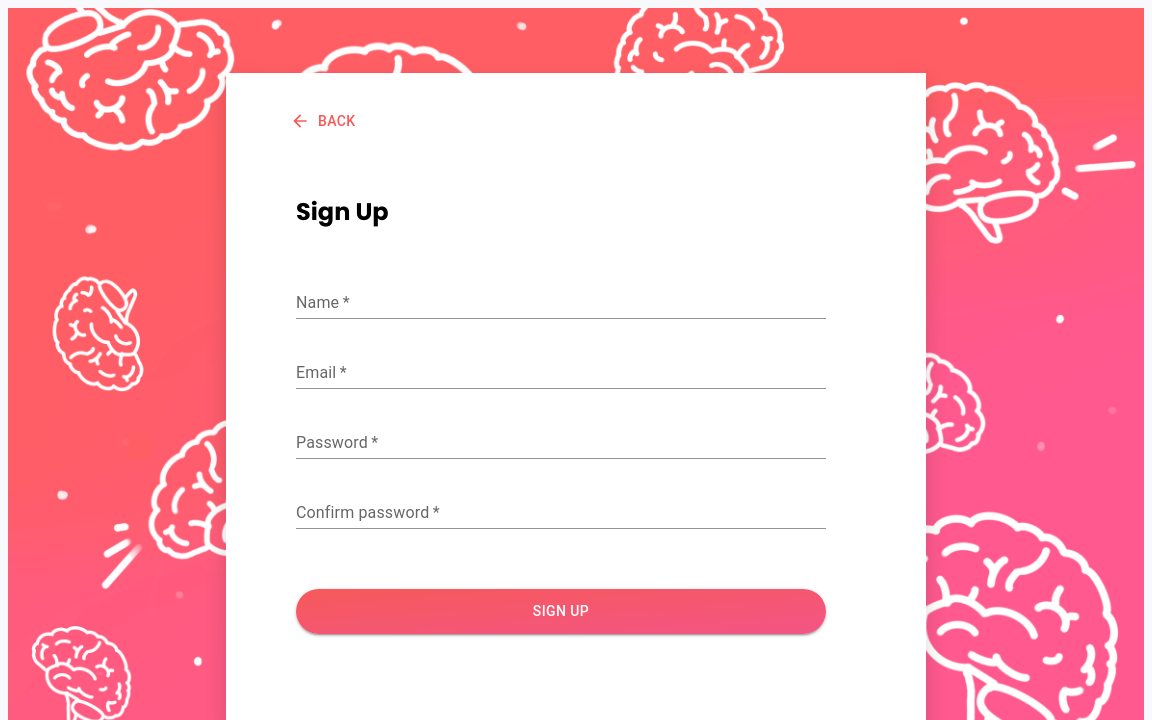
Scenario: Component testing - Register › renders the error modal when an incorrectly formatted email is submitted
// filling the name field
Step 1. Type "Test" into the field with id "name" → (561,303), box left=296, top=287, right=826, bottom=319
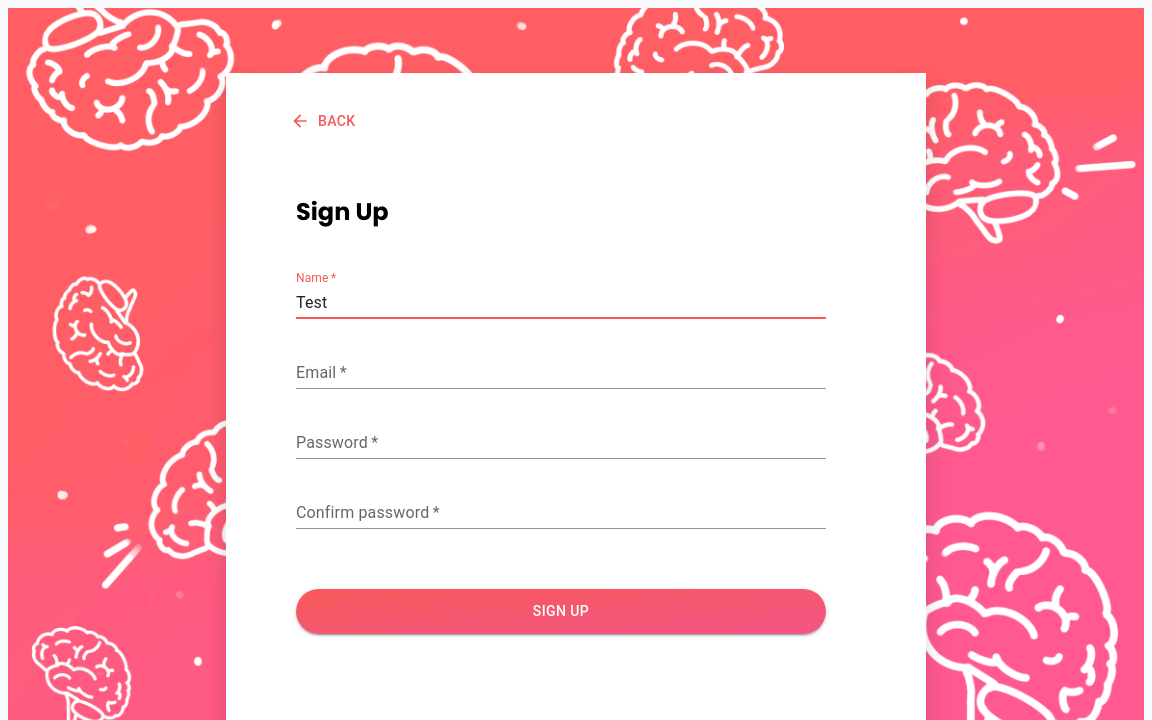
// emptying the email field
Step 2. Type "test.com" into the field with id "email" → (561,373), box left=296, top=357, right=826, bottom=389
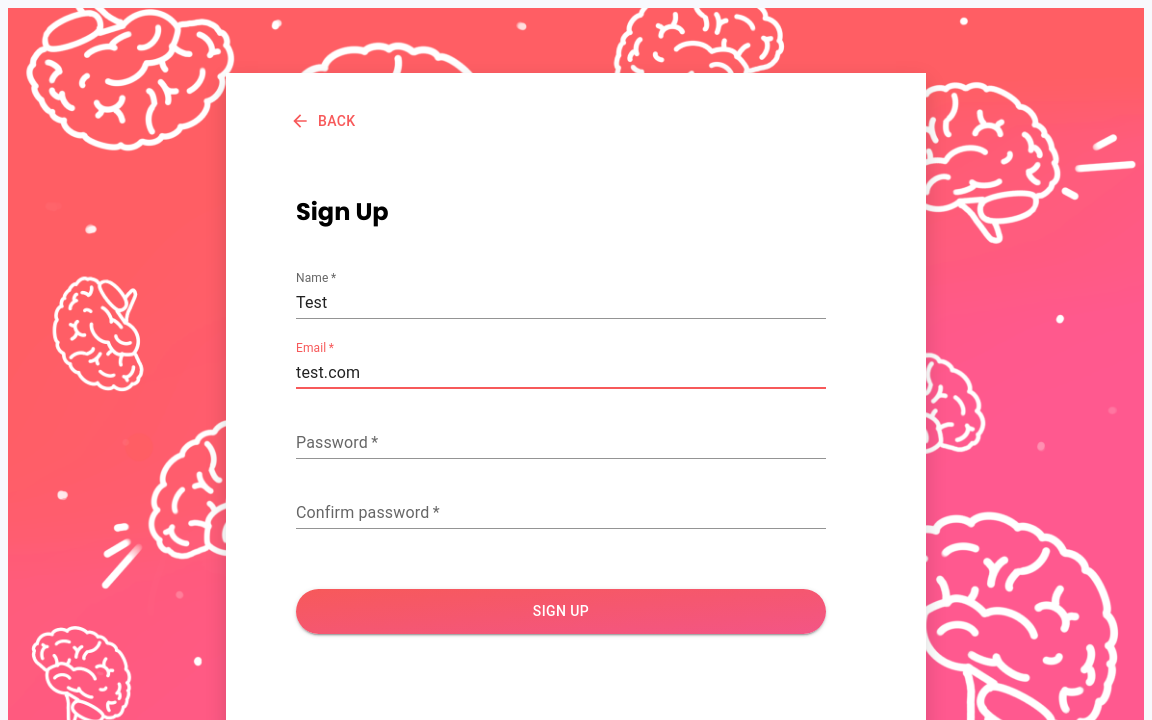
// atempting to submit the form
Step 3. Click the button with id "signup" → (561,612), box left=296, top=589, right=826, bottom=634
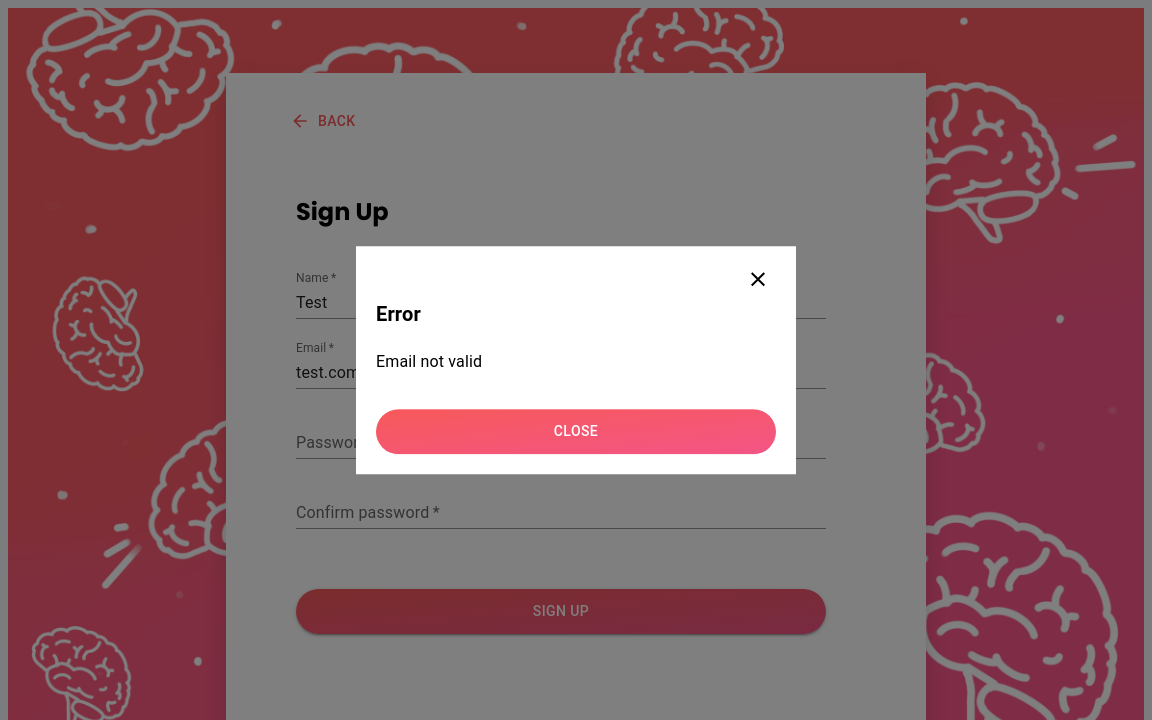
Now the element with id "error-modal" is shown
Now the text with id "error-modal-description" reads "Email not valid", box left=376, top=352, right=482, bottom=371
